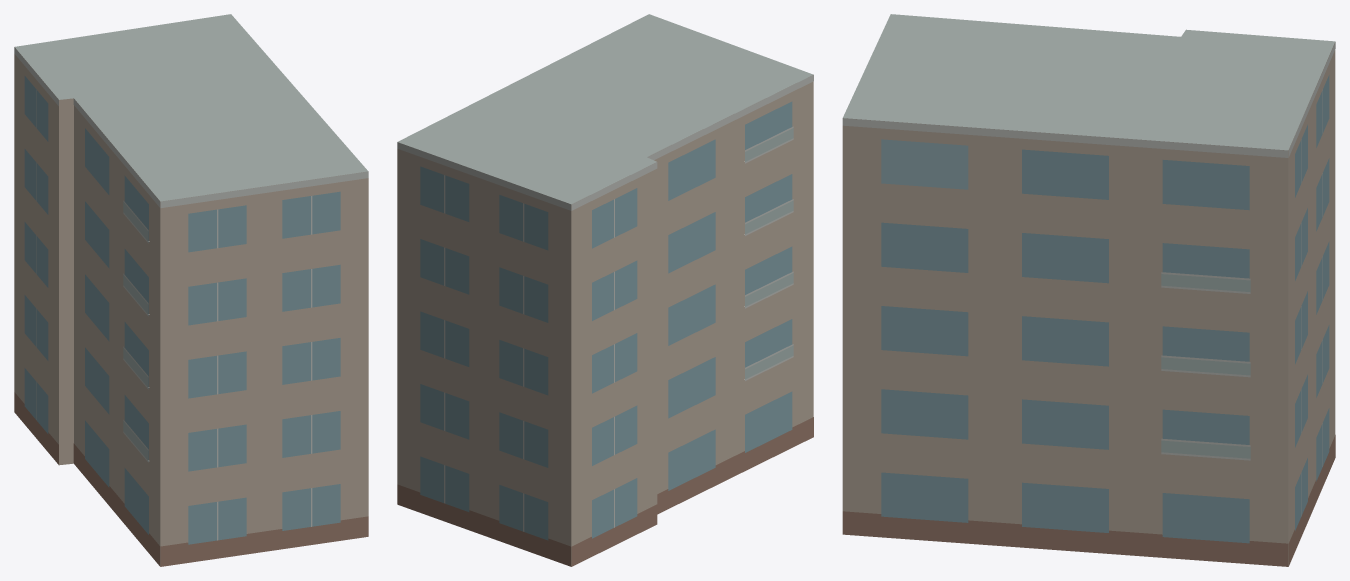
Rendered from survey-upis-32674704.glb.
3 views of the same model, side by side, from view 1: azimuth 30°, elevation 25°; view 2: azimuth 150°, elevation 25°; view 3: azimuth 270°, elevation 25° (orthographic). The views are drawn at different scales.
Parts seen in each view (by area): view 1: survey-upis-32674704.tmp; view 2: survey-upis-32674704.tmp; view 3: survey-upis-32674704.tmp.
Boxes of the visible parts, <box> form: survey-upis-32674704.tmp: <box>14,14,368,566</box>; survey-upis-32674704.tmp: <box>397,14,813,566</box>; survey-upis-32674704.tmp: <box>842,14,1335,566</box>.
Size of the model in its own units: 9.35 by 13.3 by 14.27.
